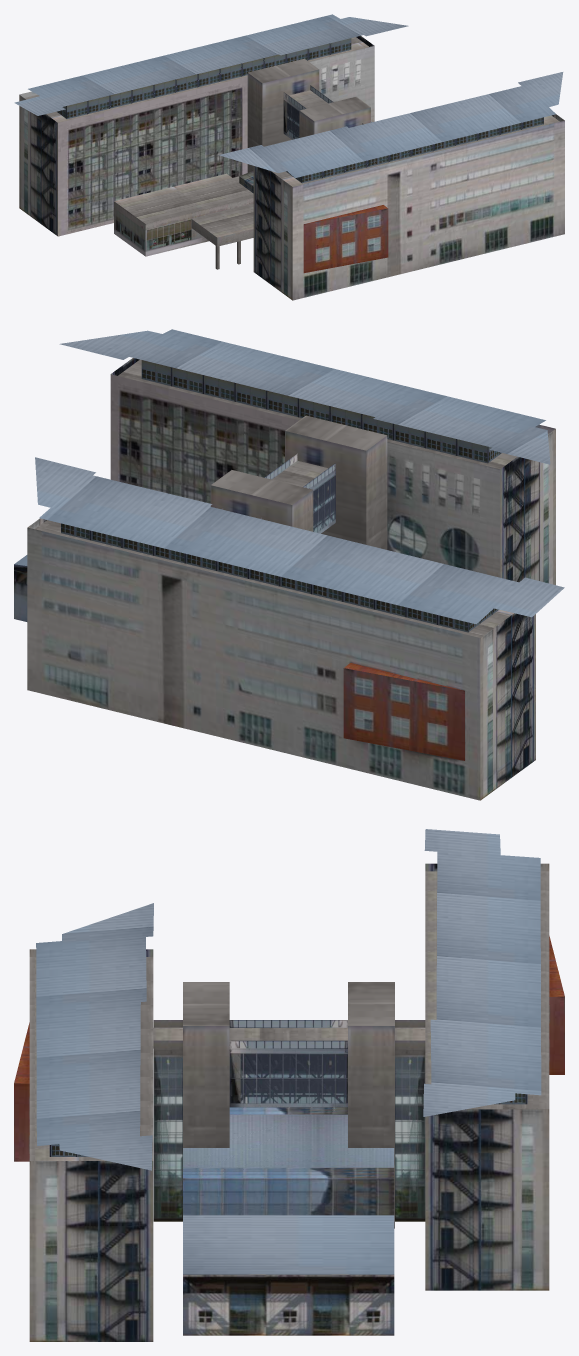
File: Dereito.FBX
The picture shows the model from 3 angles, top to bottom: view 1: azimuth 30°, elevation 25°; view 2: azimuth 150°, elevation 25°; view 3: azimuth 270°, elevation 25°; orthographic projection. The views are drawn at different scales.
Parts seen in each view (by area): view 1: Line02; view 2: Line02; view 3: Line02.
Boxes of the visible parts, <box> form: Line02: <box>14,14,564,300</box>; Line02: <box>14,329,564,800</box>; Line02: <box>14,829,564,1341</box>.
Size of the model in its own units: 143 by 41.26 by 97.44.
